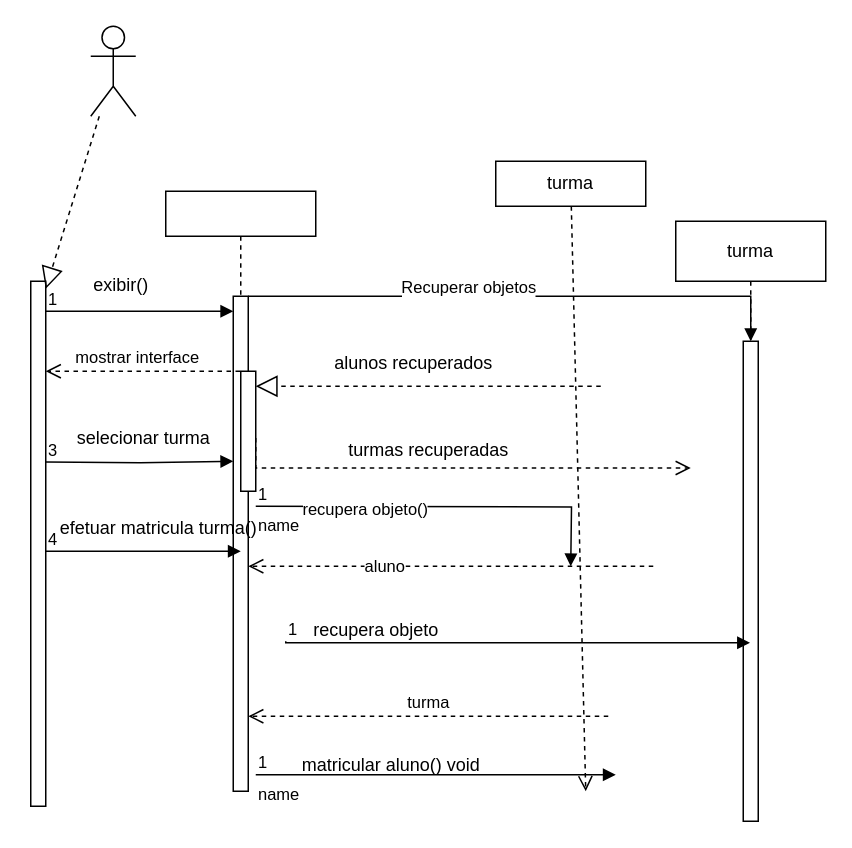
The diagram is 852 pixels wide and 848 high, and some of its shapes have lost their labels. The shapes that lost their labels are listed below. From the top down, each one's centre as x and y in pixels, then its label:
At [112,70]: "Secretaria".
At [240,483]: "Efetuar Matricula".
